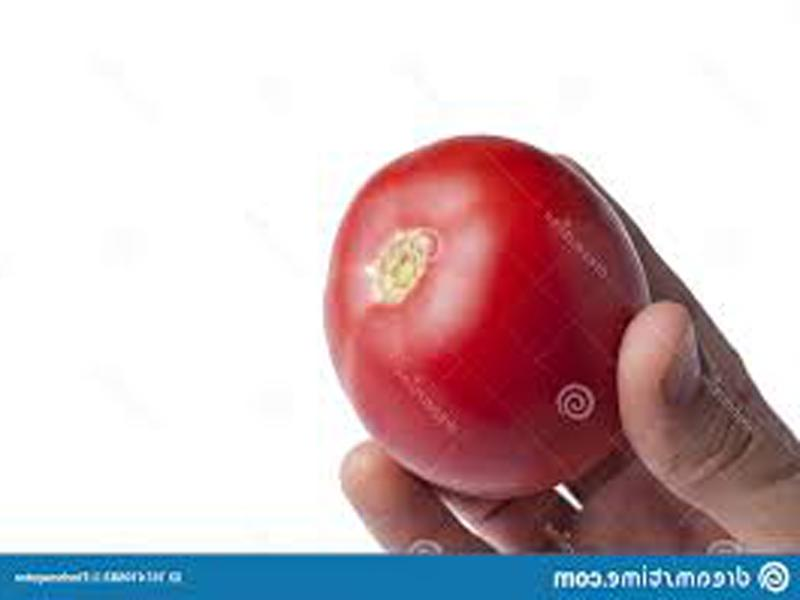Tomato: (325, 136, 651, 496)
